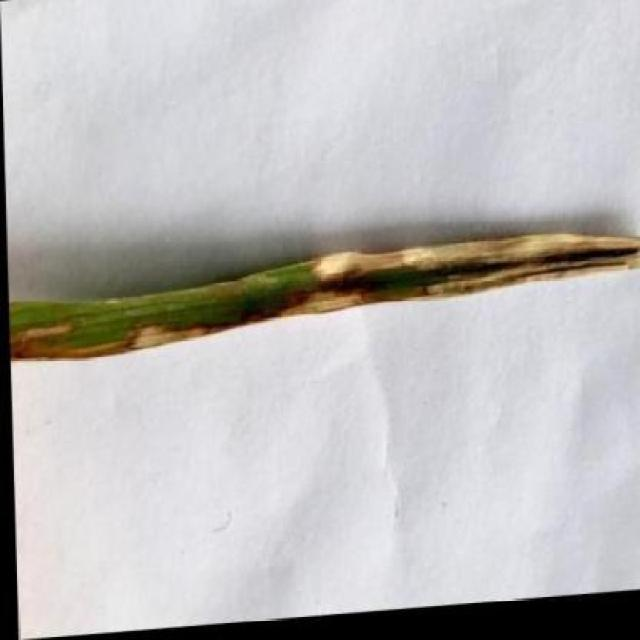Brown_Spot: (6, 221, 640, 370)
